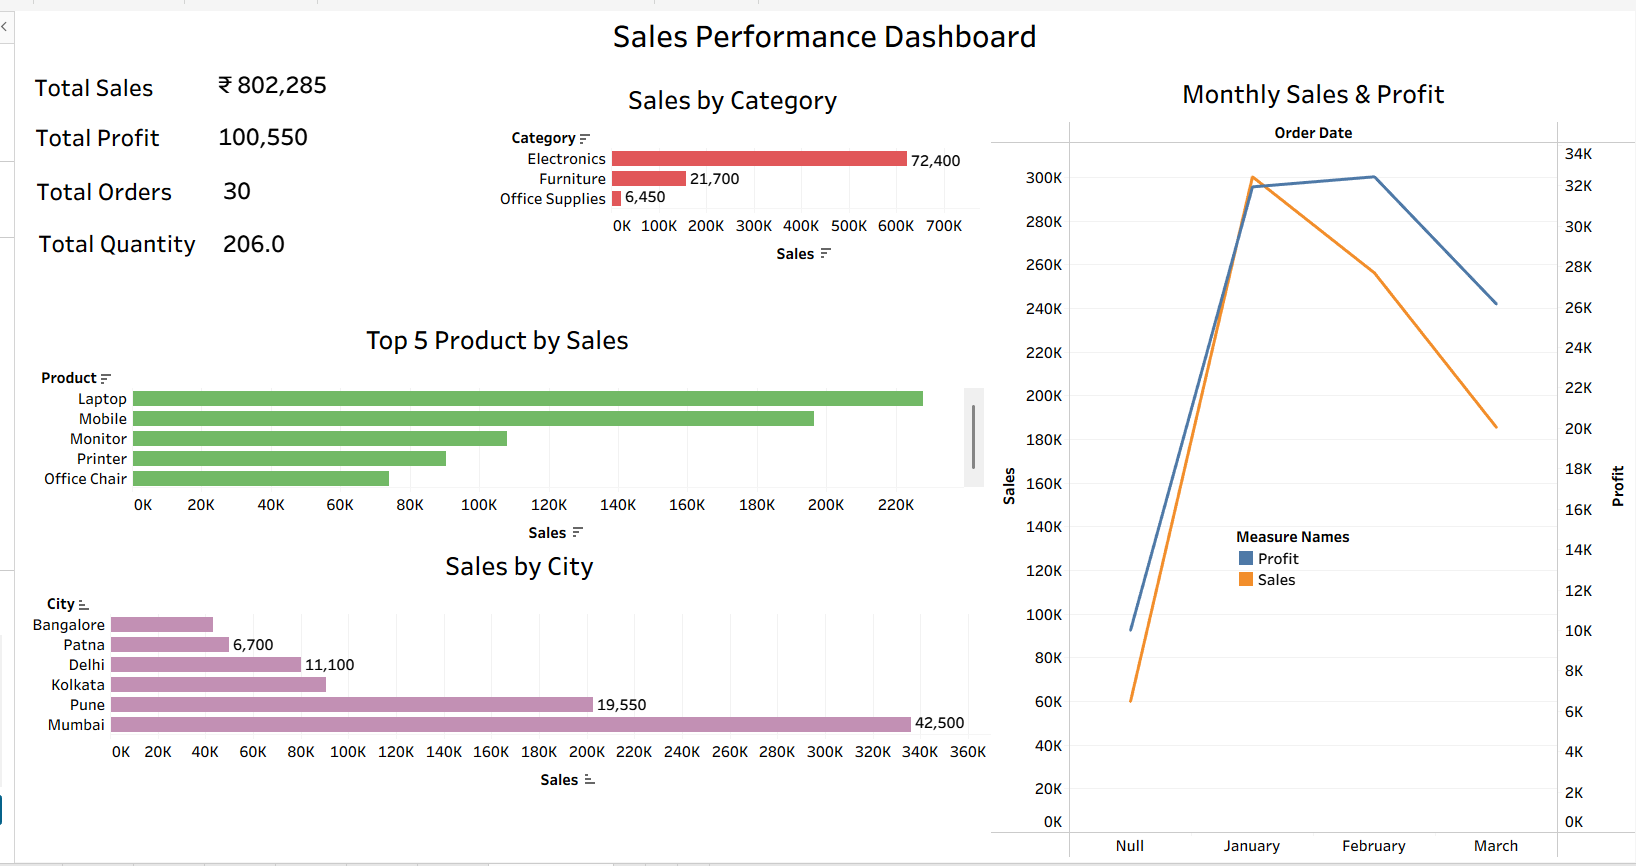

The dashboard page shown, as its layout file describes it:
{"tool":"tableau","page":{"name":"Dashboard 1","canvas":[1620,860],"ordinal":0},"visuals":[{"type":"title","box":[8,8,1604,49]},{"type":"worksheet","title":"Sheet 1","mark":"Automatic","box":[196,66,146,49]},{"type":"text","box":[16,69,126,32]},{"type":"worksheet","title":"Sheet 5","mark":"Automatic","rows":["sales","profit"],"cols":["order_date"],"box":[976,70,645,786]},{"type":"worksheet","title":"Sheet 6","mark":"Automatic","rows":["category"],"cols":["sales"],"box":[476,76,489,217]},{"type":"worksheet","title":"Sheet 2","mark":"Automatic","box":[197,118,127,40]},{"type":"text","box":[17,119,132,32]},{"type":"worksheet","title":"Sheet 3","mark":"Automatic","box":[180,172,88,59]},{"type":"text","box":[18,173,143,32]},{"type":"text","box":[20,225,165,32]},{"type":"worksheet","title":"Sheet 4","mark":"Automatic","box":[194,225,121,64]},{"type":"worksheet","title":"Sheet 7","mark":"Automatic","rows":["product"],"cols":["sales"],"box":[17,316,952,232]},{"type":"legend","title":"Sheet 5","param":"[federated.0fh2v9o0nog3w013a90or1idii3i].[:Measure Names]","box":[1221,524,140,64]},{"type":"worksheet","title":"Sheet 8","mark":"Automatic","rows":["city"],"cols":["sales"],"box":[15,542,979,310]}]}

Visuals, with their boxes in screenshot pixels (x1, y1, x2, y2), scaled from the page's 1620x860 canvas onto the 1636x866 screenshot:
title: detection(8, 8, 1628, 57)
"Sheet 1" worksheet: detection(198, 66, 345, 116)
text: detection(16, 69, 143, 102)
"Sheet 5" worksheet: detection(986, 70, 1635, 862)
"Sheet 6" worksheet: detection(481, 77, 975, 295)
"Sheet 2" worksheet: detection(199, 119, 327, 159)
text: detection(17, 120, 150, 152)
"Sheet 3" worksheet: detection(182, 173, 271, 233)
text: detection(18, 174, 163, 206)
text: detection(20, 227, 187, 259)
"Sheet 4" worksheet: detection(196, 227, 318, 291)
"Sheet 7" worksheet: detection(17, 318, 979, 552)
"Sheet 5" legend: detection(1233, 528, 1374, 592)
"Sheet 8" worksheet: detection(15, 546, 1004, 858)
